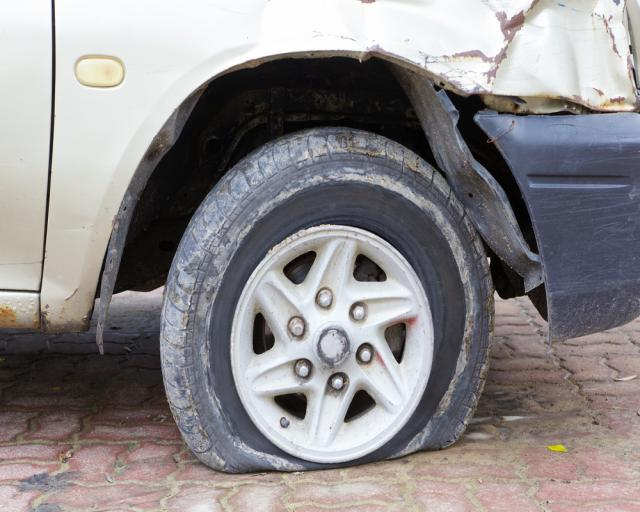dent: (385, 0, 640, 113)
tire flat: (159, 126, 494, 474)
